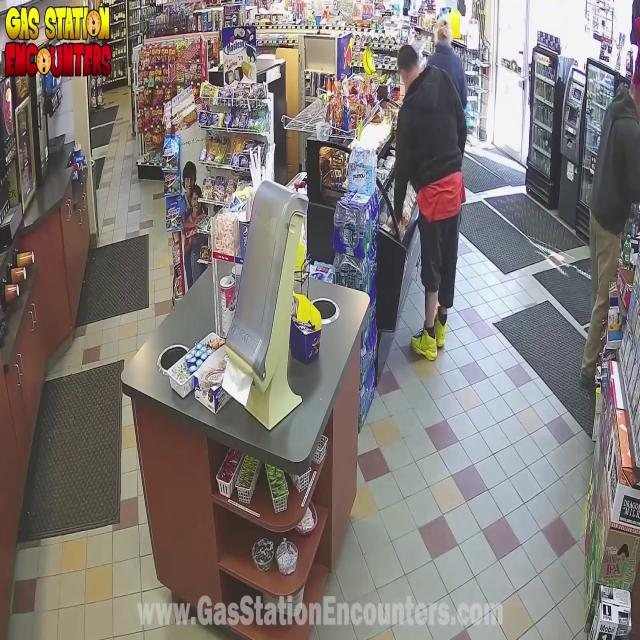normal: (382, 36, 476, 388), (601, 42, 640, 255), (431, 5, 466, 68)
